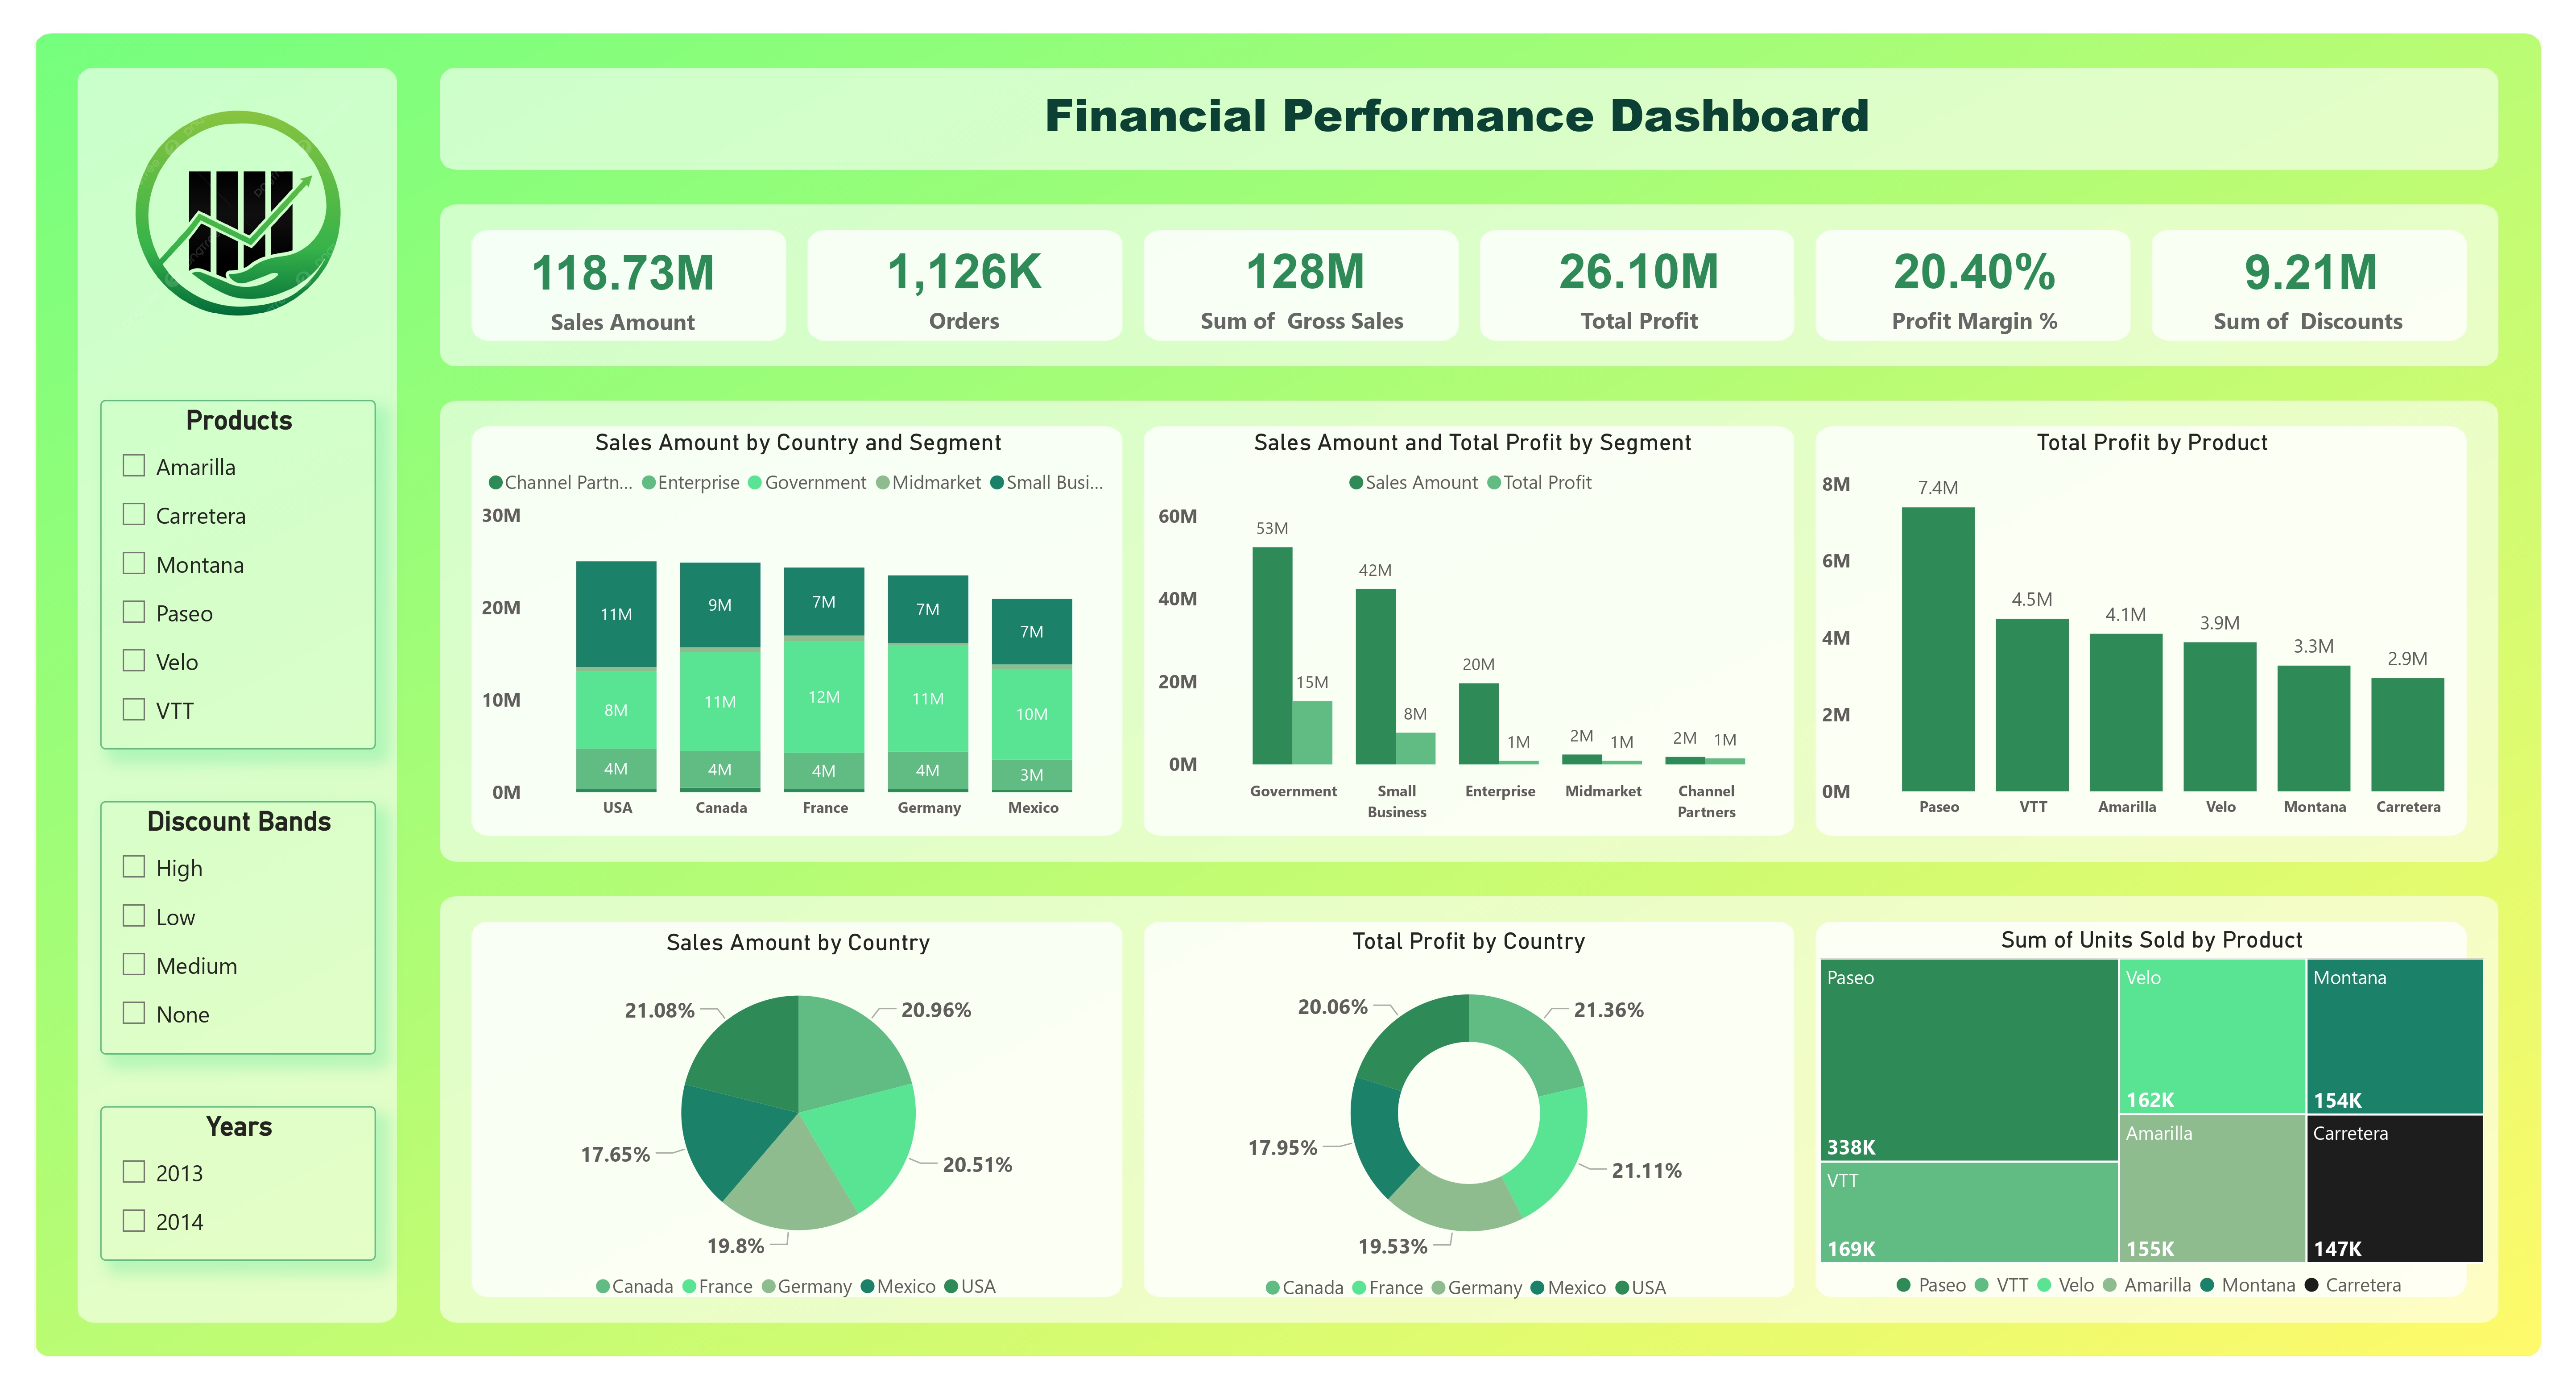

What the dashboard file says about the page in this screenshot:
{"tool":"powerbi","page":{"name":"Financial Data","canvas":[1800,950],"ordinal":0},"visuals":[{"type":"card","fields":{"Values":["Date Table.Sales Amount"]},"box":[336.5,139.5,172.3,82.1],"z":0},{"type":"card","fields":{"Values":["Date Table.Orders"]},"box":[586.1,138.9,162.5,81.9],"z":1000},{"type":"textbox","box":[290,30.1,1474.5,61.6],"z":2000},{"type":"card","fields":{"Values":["Sum(financial_data. Gross Sales )"]},"box":[830.6,138.9,163.9,81.9],"z":3000},{"type":"card","fields":{"Values":["Date Table.Total Profit"]},"box":[1058.3,138.9,188.9,81.9],"z":4000},{"type":"card","fields":{"Values":["Date Table.Profit Margin %"]},"box":[1305.6,130.6,175,98.6],"z":5000},{"type":"card","fields":{"Values":["Sum(financial_data. Discounts )"]},"box":[1552.8,136.1,163.9,88.9],"z":6000},{"type":"treemap","fields":{"Values":["Sum(financial_data. Units Sold )"],"Group":["financial_data. Product "]},"box":[1277.2,640.4,486.7,276.8],"z":7000},{"type":"pieChart","fields":{"Category":["financial_data.Country"],"Y":["Date Table.Sales Amount"]},"box":[315.5,642,466.8,275.6],"z":8000},{"type":"donutChart","fields":{"Category":["financial_data.Country"],"Y":["Date Table.Total Profit"]},"box":[791.9,640.9,476,277.7],"z":9000},{"type":"columnChart","fields":{"Category":["financial_data.Country"],"Series":["financial_data.Segment"],"Y":["Date Table.Sales Amount"]},"box":[315.3,283.3,466.7,290.3],"z":10000},{"type":"clusteredColumnChart","fields":{"Category":["financial_data.Segment"],"Y":["Date Table.Sales Amount","Date Table.Total Profit"]},"box":[801.4,283.3,463.9,290.3],"z":11000},{"type":"columnChart","fields":{"Category":["financial_data. Product "],"Y":["Date Table.Total Profit"]},"box":[1277.5,283.1,486.9,290],"z":12000},{"type":"slicer","title":"Years","fields":{"Values":["financial_data.Year"]},"box":[46.5,770.1,198.3,110.8],"z":13000},{"type":"slicer","title":" Discount Bands","fields":{"Values":["financial_data. Discount Band "]},"box":[46.5,551.2,198.3,181.9],"z":14000},{"type":"slicer","title":"Products","fields":{"Values":["financial_data. Product "]},"box":[46.5,262.6,198.3,251.7],"z":15000},{"type":"image","box":[31.5,30.1,229.8,198.3],"z":16000}]}

Visuals, with their boxes in screenshot pixels (x1, y1, x2, y2):
card - Date Table.Sales Amount: region(503, 228, 743, 342)
card - Date Table.Orders: region(851, 227, 1077, 341)
textbox: region(438, 75, 2493, 161)
card - Sum(financial_data. Gross Sales ): region(1191, 227, 1420, 341)
card - Date Table.Total Profit: region(1509, 227, 1772, 341)
card - Date Table.Profit Margin %: region(1853, 215, 2097, 353)
card - Sum(financial_data. Discounts ): region(2198, 223, 2427, 347)
treemap - Sum(financial_data. Units Sold ) x financial_data. Product : region(1814, 926, 2492, 1312)
pieChart - financial_data.Country x Date Table.Sales Amount: region(473, 928, 1124, 1312)
donutChart - financial_data.Country x Date Table.Total Profit: region(1137, 927, 1801, 1314)
columnChart - financial_data.Country x financial_data.Segment: region(473, 428, 1124, 833)
clusteredColumnChart - financial_data.Segment x Date Table.Sales Amount: region(1150, 428, 1797, 833)
columnChart - financial_data. Product  x Date Table.Total Profit: region(1814, 428, 2493, 832)
"Years" slicer: region(98, 1107, 375, 1261)
" Discount Bands" slicer: region(98, 802, 375, 1055)
"Products" slicer: region(98, 399, 375, 750)
image: region(77, 75, 398, 352)
